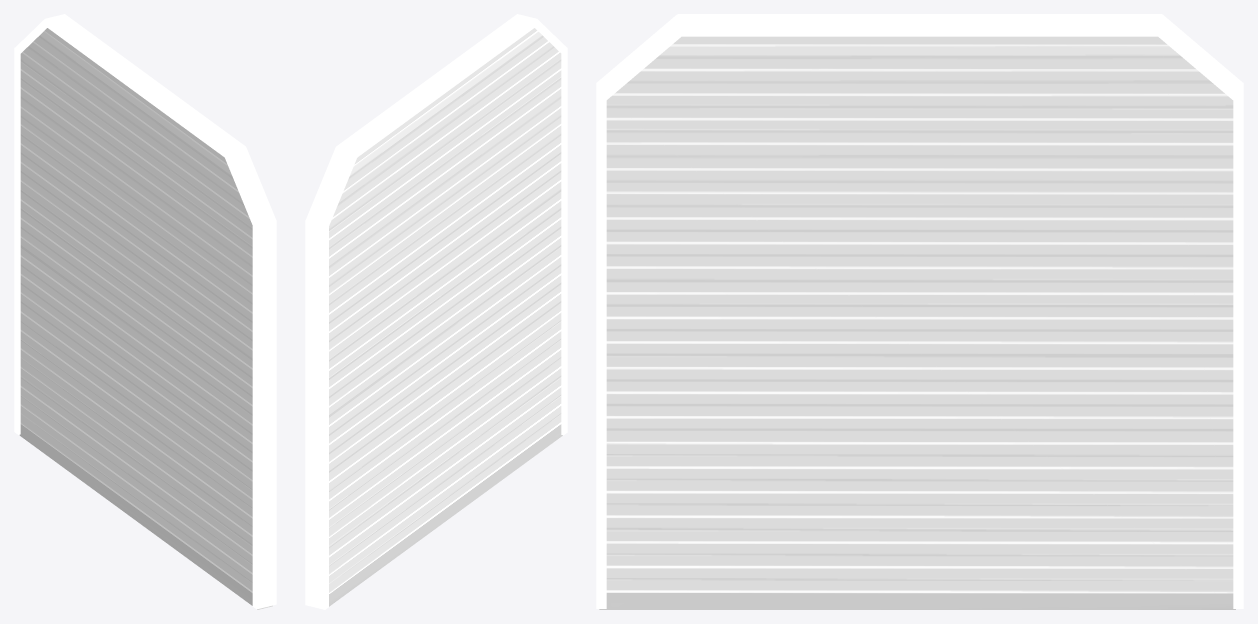
File: standard_trim_door_Old.5b328e7a.gltf
3 views of the same model, side by side, from view 1: azimuth 30°, elevation 25°; view 2: azimuth 150°, elevation 25°; view 3: azimuth 270°, elevation 25° (orthographic). The views are drawn at different scales.
Visible parts, largest first — view 1: doors, trims; view 2: doors, trims; view 3: doors, trims.
Boxes of the visible parts, <box> form: doors: <box>19,28,272,609</box>; trims: <box>14,14,276,609</box>; doors: <box>329,28,562,606</box>; trims: <box>305,14,567,609</box>; doors: <box>599,36,1235,609</box>; trims: <box>596,14,1243,608</box>.
Bounding box in the file's own units: 0.2886 × 6.08 × 6.1.
2 materials, 1 textured.
